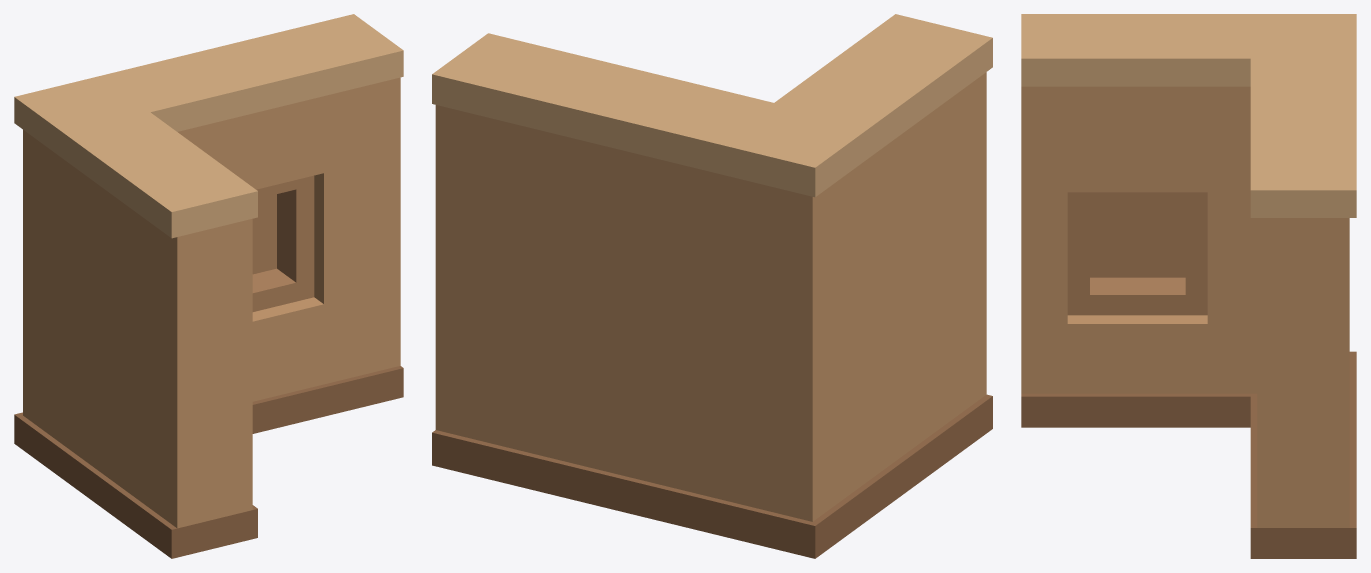
3 views of the same model, side by side, from view 1: azimuth 30°, elevation 25°; view 2: azimuth 150°, elevation 25°; view 3: azimuth 270°, elevation 25° (orthographic). The views are drawn at different scales.
Visible parts, largest first — view 1: BackWallWithSteppedBlindNiche, ReturnWallWithSteppedBlindNiche, WholeLShapedCoping, WholeLShapedPlinth; view 2: BackWallWithSteppedBlindNiche, WholeLShapedCoping, ReturnWallWithSteppedBlindNiche, WholeLShapedPlinth; view 3: ReturnWallWithSteppedBlindNiche, WholeLShapedCoping, BackWallWithSteppedBlindNiche, WholeLShapedPlinth.
Boxes of the visible parts, x1,y1,x2,y2 form: BackWallWithSteppedBlindNiche: [23, 77, 400, 446]; ReturnWallWithSteppedBlindNiche: [66, 161, 252, 528]; WholeLShapedCoping: [14, 14, 403, 238]; WholeLShapedPlinth: [14, 366, 403, 558]; BackWallWithSteppedBlindNiche: [435, 105, 861, 521]; WholeLShapedCoping: [432, 14, 992, 197]; ReturnWallWithSteppedBlindNiche: [861, 72, 986, 485]; WholeLShapedPlinth: [432, 394, 992, 558]; ReturnWallWithSteppedBlindNiche: [1021, 86, 1257, 393]; WholeLShapedCoping: [1021, 14, 1356, 217]; BackWallWithSteppedBlindNiche: [1257, 218, 1349, 527]; WholeLShapedPlinth: [1021, 351, 1356, 558].
Bounding box in the file's own units: 2.44 × 2.38 × 1.96.
